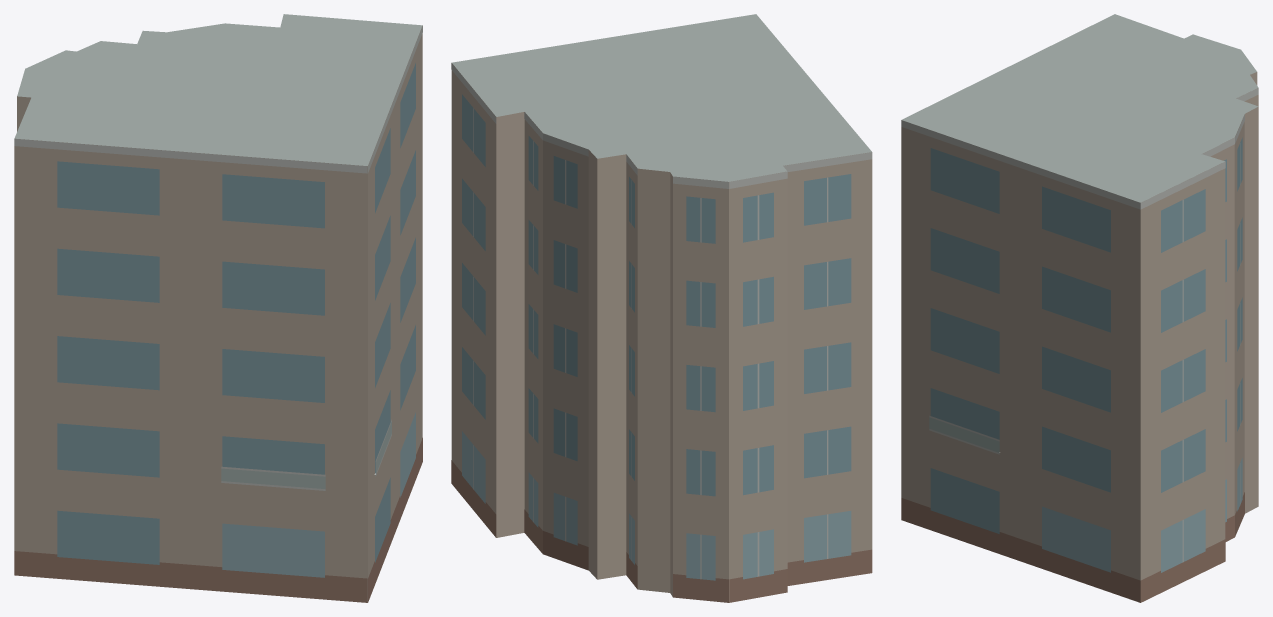
Rendered from survey-upis-32495858.glb.
3 views of the same model, side by side, from view 1: azimuth 30°, elevation 25°; view 2: azimuth 150°, elevation 25°; view 3: azimuth 270°, elevation 25° (orthographic). The views are drawn at different scales.
Visible parts, largest first — view 1: survey-upis-32495858.tmp; view 2: survey-upis-32495858.tmp; view 3: survey-upis-32495858.tmp.
Part boxes in pixels (bbox=[...]): survey-upis-32495858.tmp: bbox=[14, 14, 422, 602]; survey-upis-32495858.tmp: bbox=[451, 14, 872, 602]; survey-upis-32495858.tmp: bbox=[901, 14, 1258, 602].
Bounding box in the file's own units: 14.48 × 14.3 × 11.58.
